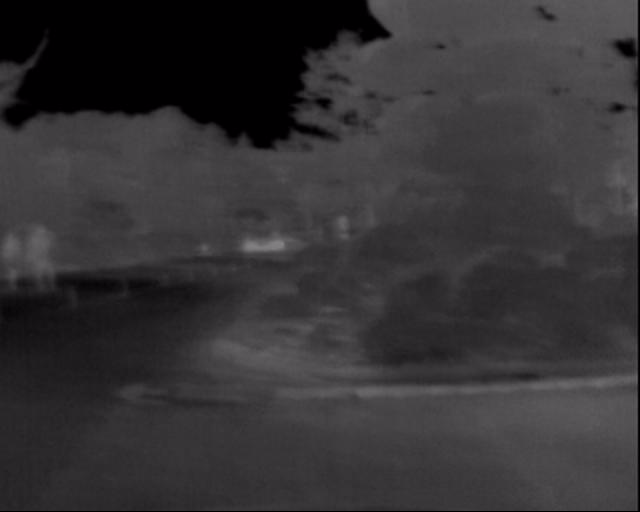person: (36, 223, 70, 303), (1, 231, 28, 304)
